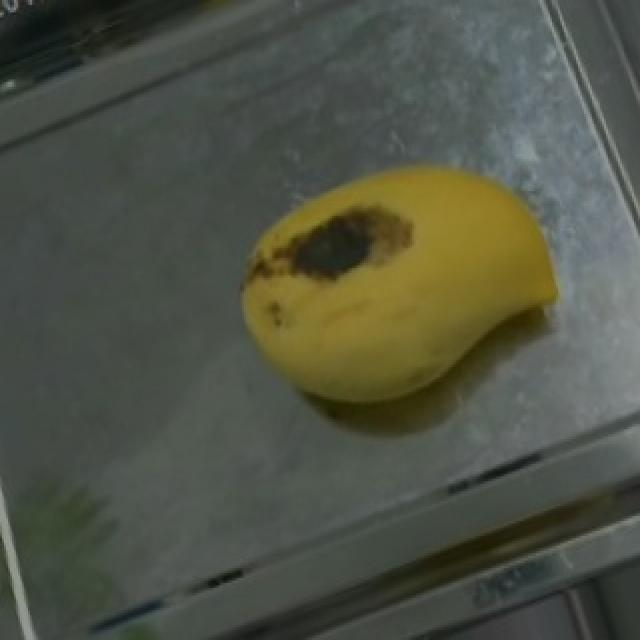fruit: (288, 104, 608, 454)
